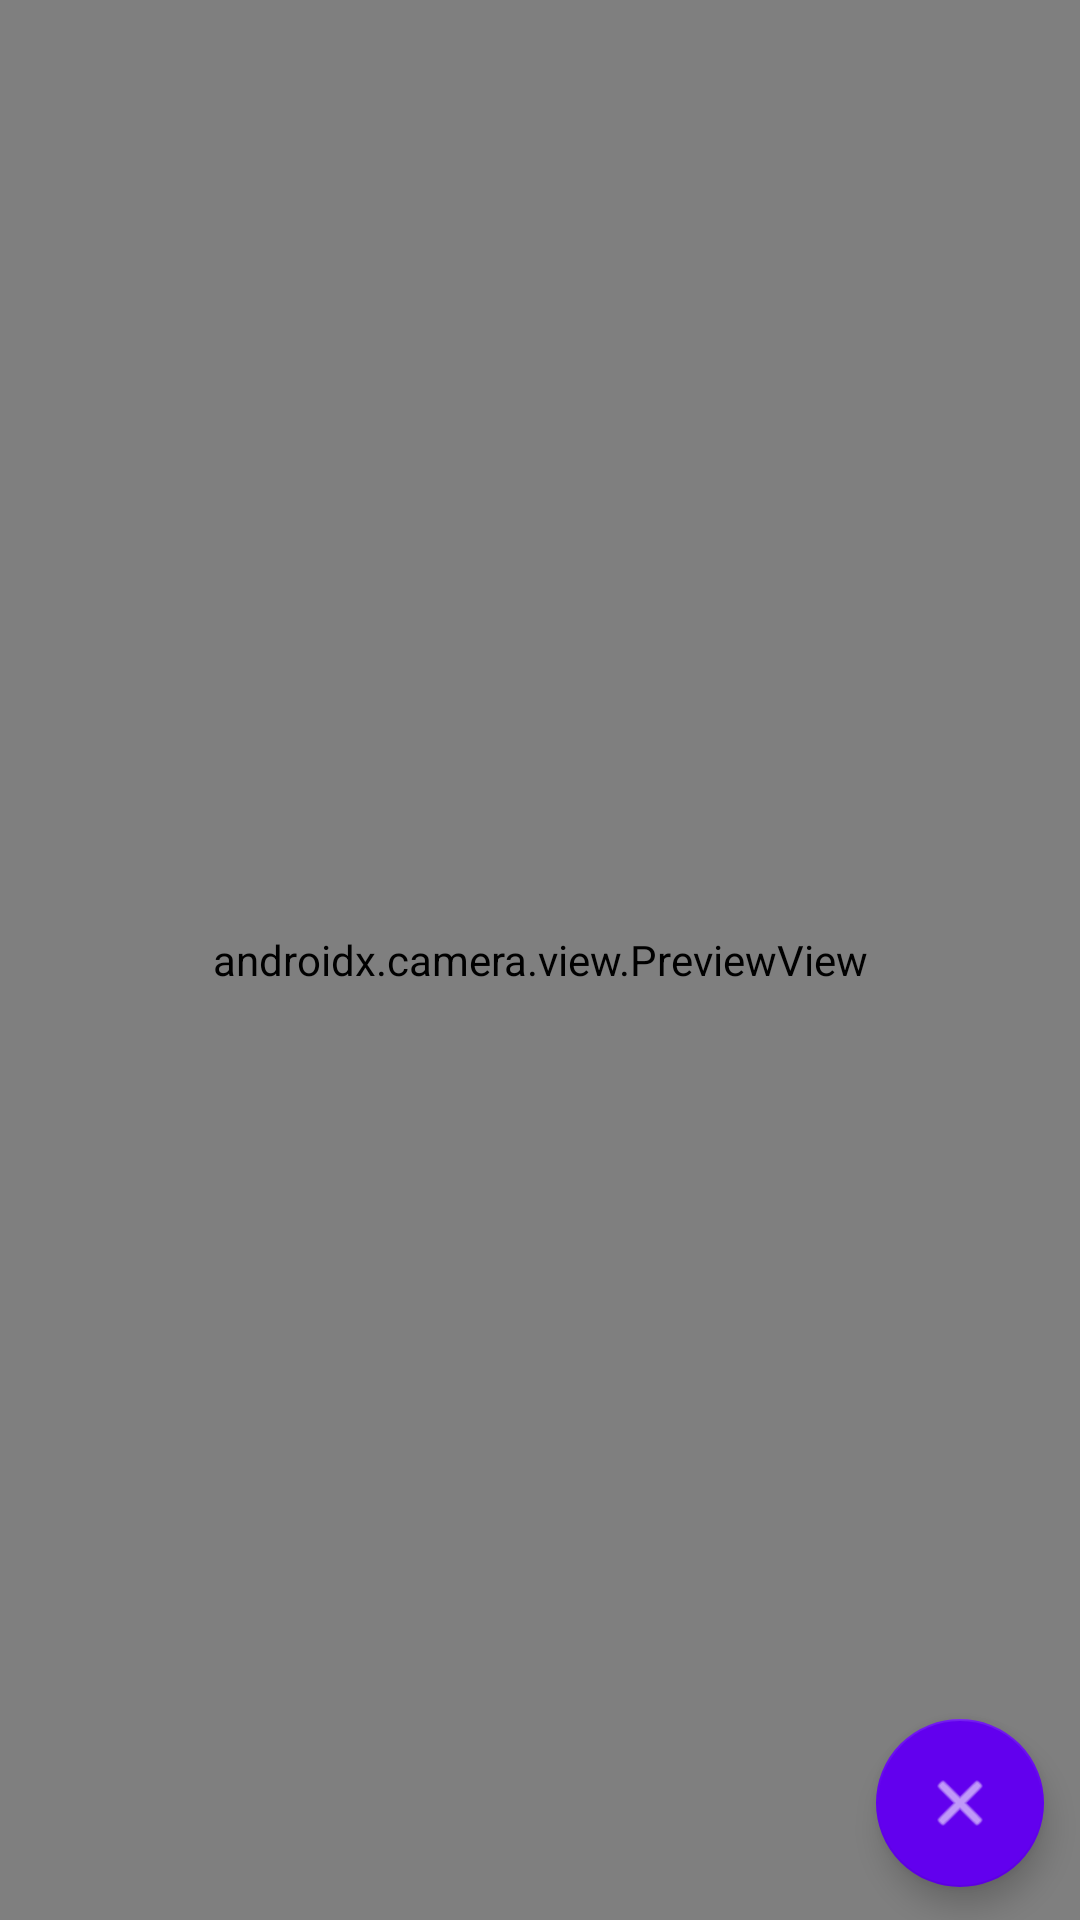

Screen size 1080×1920. Icon name, then its box in pixels as (x1, y1, x2, y2):
close clear cancel: (876, 1719, 1044, 1887)
